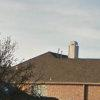Chimney: (63, 34, 89, 65)
